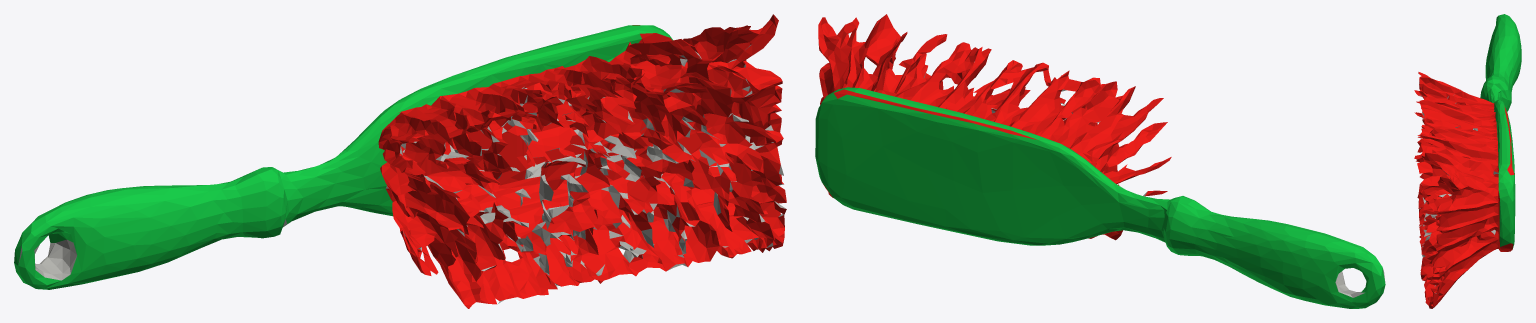
File: red_brush.obj
3 views of the same model, side by side, from view 1: azimuth 30°, elevation 25°; view 2: azimuth 150°, elevation 25°; view 3: azimuth 270°, elevation 25° (orthographic). The views are drawn at different scales.
Size of the model in its own units: 0.21 by 0.065 by 0.045.
